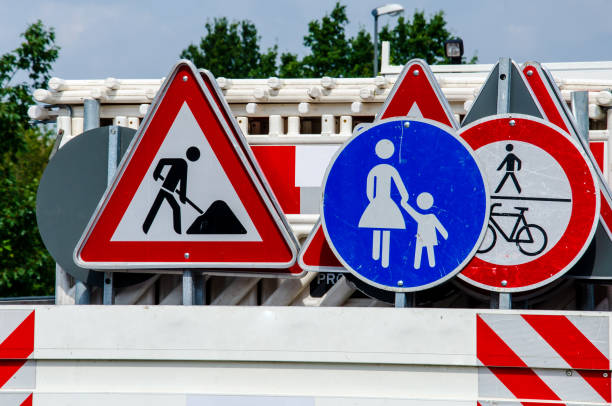yol_calismasi_levha: (70, 63, 291, 270)
